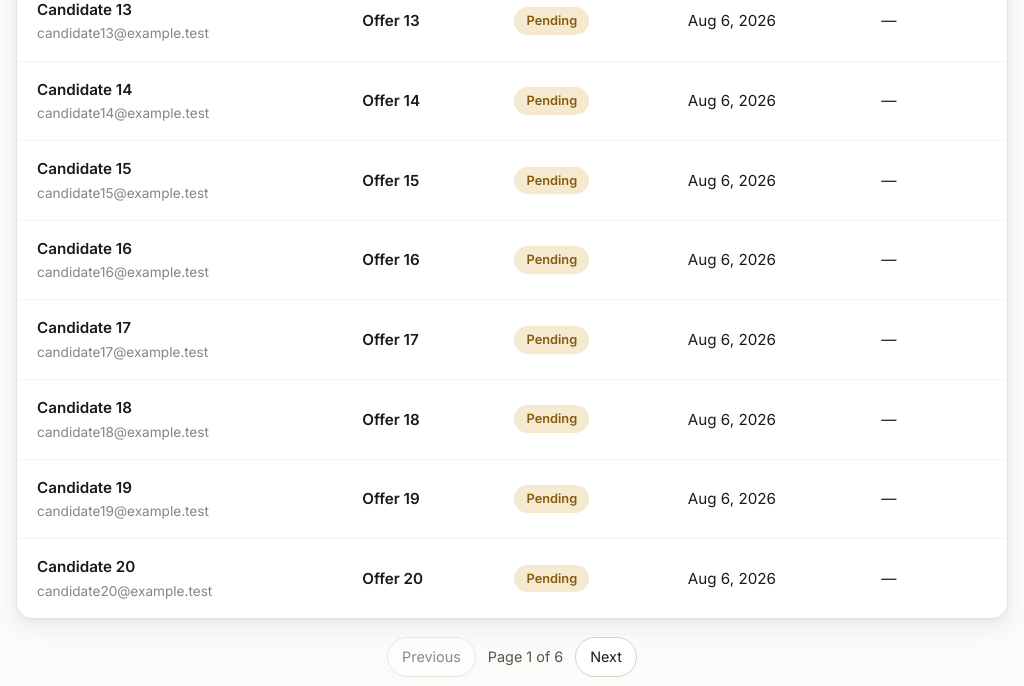
Test: pagination across application and interview workflows › reaches applications after the first 20
(page scrolled)
Click the button "Next" at coordinates (606, 657), box [575,637,637,677]
(page scrolled)
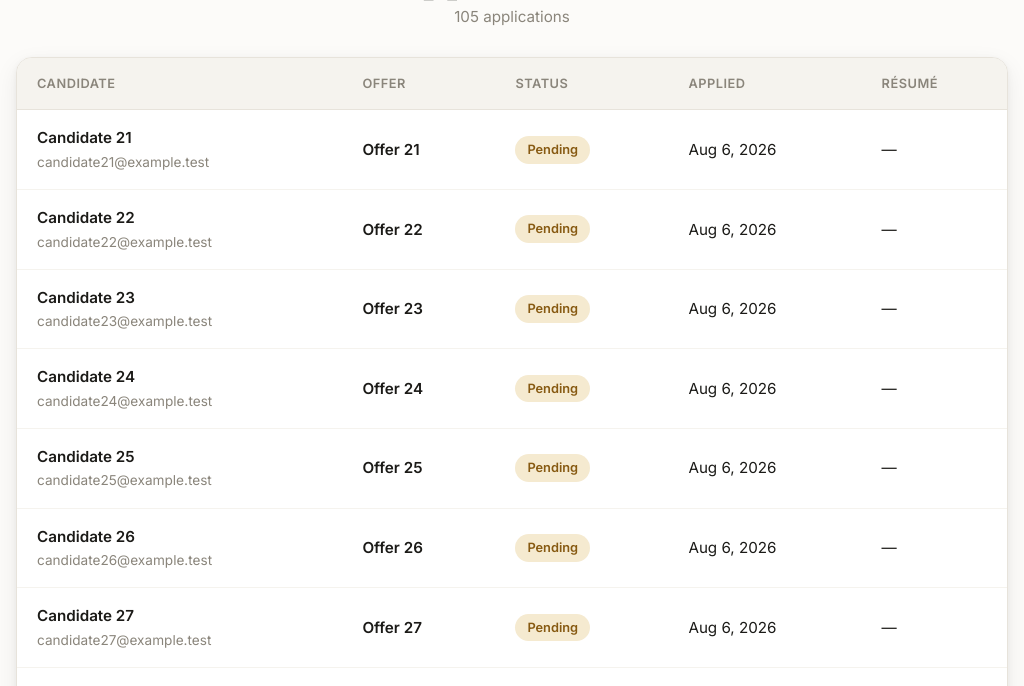
Expected: the text "Offer 21" is shown, [362,140,420,159]
